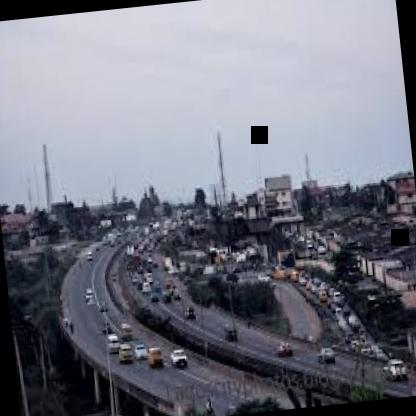car: (379, 356, 411, 388), (168, 340, 196, 372), (102, 329, 130, 359), (142, 343, 166, 375), (112, 344, 140, 370), (112, 312, 134, 344), (312, 343, 338, 369), (218, 318, 246, 342), (181, 302, 203, 326), (272, 336, 296, 356), (134, 336, 148, 358), (81, 244, 94, 266)
